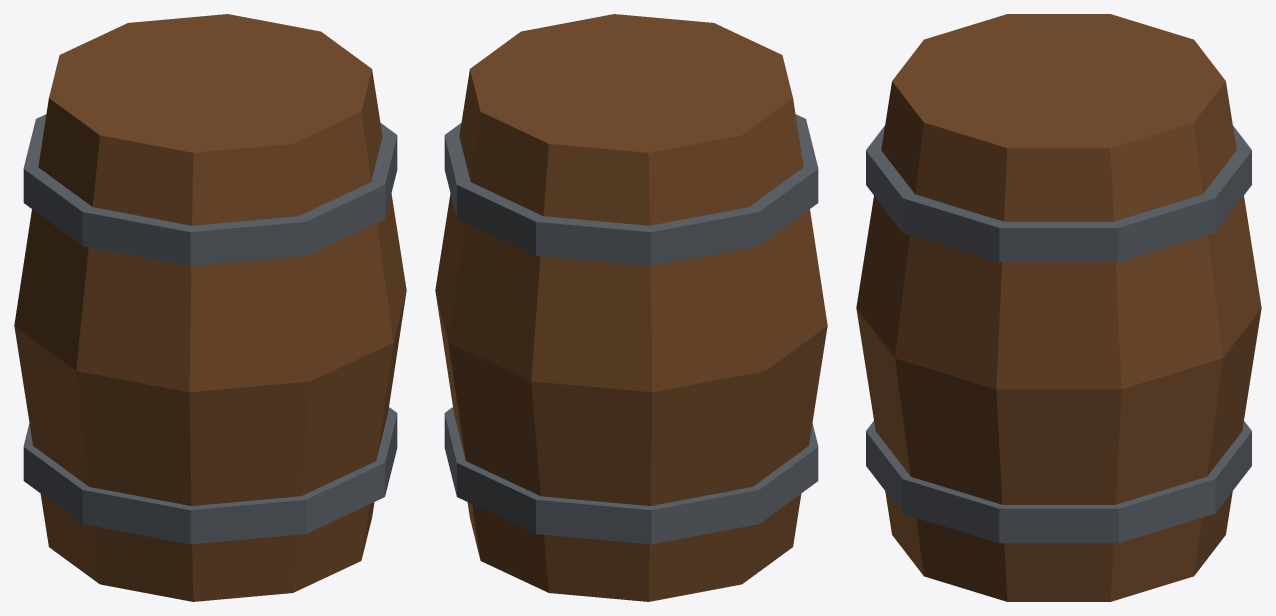
File: barrel.glb
3 renders of one model, left to right at view 1: azimuth 30°, elevation 25°; view 2: azimuth 150°, elevation 25°; view 3: azimuth 270°, elevation 25°, orthographic.
Visible parts, largest first — view 1: barrel; view 2: barrel; view 3: barrel.
Boxes of the visible parts, x1,y1,x2,y2 form: barrel: (14,14,406,601); barrel: (435,14,827,601); barrel: (856,14,1261,601).
Size of the model in its own units: 0.1617 by 0.21 by 0.17.
